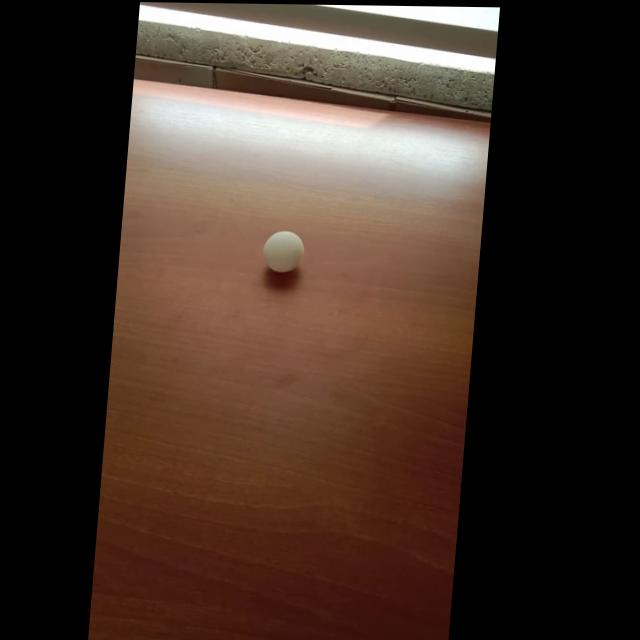white ball: (260, 230, 306, 273)
